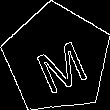M_NW: (26, 26, 88, 91)
